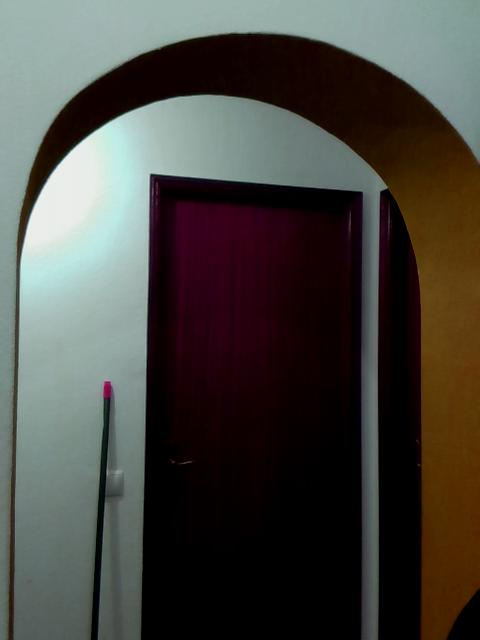closed_door: (144, 172, 362, 639)
